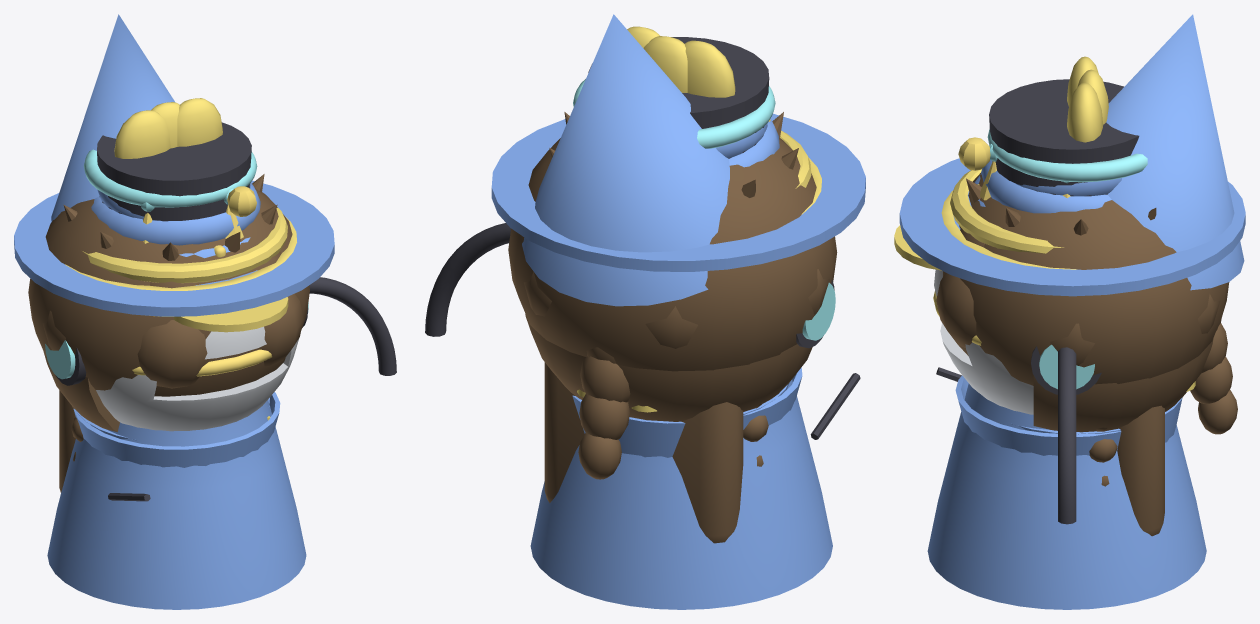
File: kk_hero.glb
3 views of the same model, side by side, from view 1: azimuth 30°, elevation 25°; view 2: azimuth 150°, elevation 25°; view 3: azimuth 270°, elevation 25° (orthographic). The views are drawn at different scales.
Visible parts, largest first — view 1: fit_kaftan, hat_wizard, hair_afro, hat_wrap, hat_helmet, hat_top, fit_robe, hat_phones, hat_halo, hat_cap, hair_bob, hat_beanie (+3 smaller); view 2: hat_wizard, fit_kaftan, hair_afro, hair_long, hair_bob, hat_wrap, hair_ponytail, hat_phones, hat_top, fit_pirate, hat_halo, fit_robe (+2 smaller); view 3: fit_kaftan, hat_wizard, hair_afro, hat_top, hat_wrap, hair_bob, hat_phones, hair_long, hat_helmet, fit_robe, hair_ponytail, hat_halo (+5 smaller).
Boxes of the visible parts, <box> form: fit_kaftan: <box>47,400,306,609</box>; hat_wizard: <box>14,14,334,316</box>; hair_afro: <box>28,187,309,396</box>; hat_wrap: <box>91,98,260,245</box>; hat_helmet: <box>96,245,299,431</box>; hat_top: <box>97,122,251,221</box>; fit_robe: <box>73,392,280,467</box>; hat_phones: <box>45,277,396,501</box>; hat_halo: <box>83,149,257,207</box>; hat_cap: <box>173,297,288,332</box>; hair_bob: <box>43,352,119,432</box>; hat_beanie: <box>65,217,296,316</box>; hat_wizard: <box>491,14,865,306</box>; fit_kaftan: <box>530,379,832,609</box>; hair_afro: <box>508,138,837,371</box>; hair_long: <box>544,362,743,543</box>; hair_bob: <box>525,314,812,421</box>; hat_wrap: <box>627,26,779,167</box>; hair_ponytail: <box>578,347,630,479</box>; hat_phones: <box>425,223,860,439</box>; hat_top: <box>588,37,769,158</box>; fit_pirate: <box>572,383,789,457</box>; hat_halo: <box>573,79,775,148</box>; fit_robe: <box>743,367,802,429</box>; fit_kaftan: <box>927,383,1206,609</box>; hat_wizard: <box>899,14,1245,296</box>; hair_afro: <box>936,173,1229,385</box>; hat_top: <box>989,79,1139,196</box>; hat_wrap: <box>981,56,1121,213</box>; hair_bob: <box>1033,338,1213,432</box>; hat_phones: <box>936,344,1101,524</box>; hair_long: <box>1117,405,1164,536</box>; hat_helmet: <box>934,184,1033,414</box>; fit_robe: <box>955,375,1121,455</box>; hair_ponytail: <box>1190,318,1237,434</box>; hat_halo: <box>987,129,1147,182</box>.
Size of the model in its own units: 1.6 by 2.13 by 1.26.
